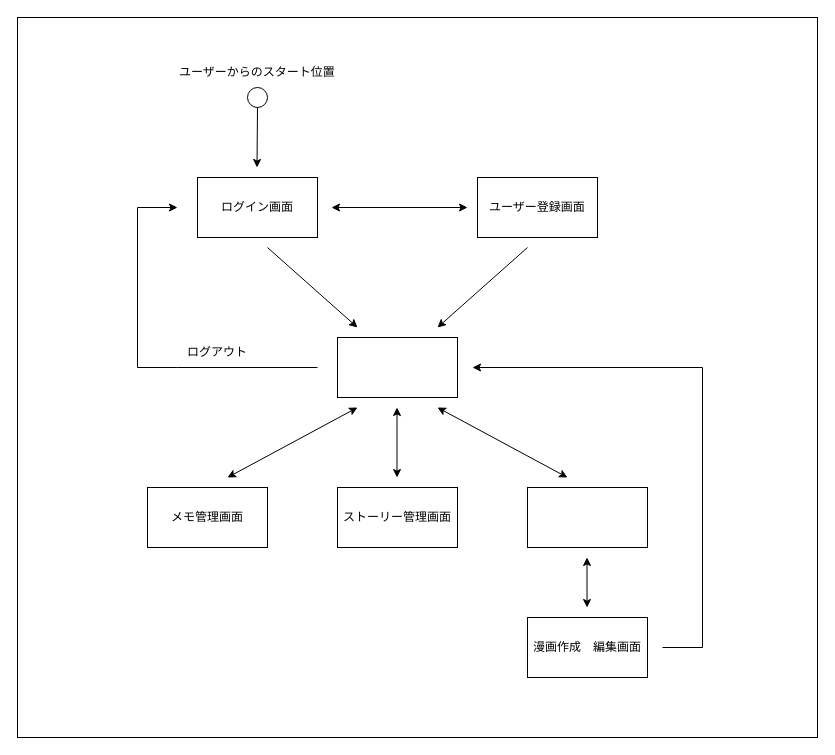
The diagram is 835 pixels wide and 755 high, and some of its shapes have lost their labels. The shapes that lost their labels are listed below. From the top down, each one's centre as x and y in pixels, then its label:
At pixel 397 367: "ホーム画面".
At pixel 587 517: "漫画作成 ストーリー選択画面".
